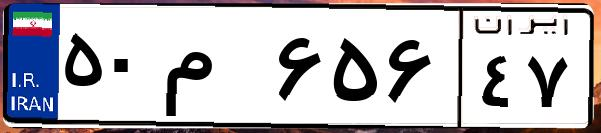0: (110, 28, 158, 98)
4: (475, 38, 525, 113)
5: (330, 28, 385, 110), (57, 26, 110, 100)
6: (270, 28, 330, 110), (385, 28, 445, 110)
7: (525, 38, 570, 115)
م: (158, 20, 270, 120)
